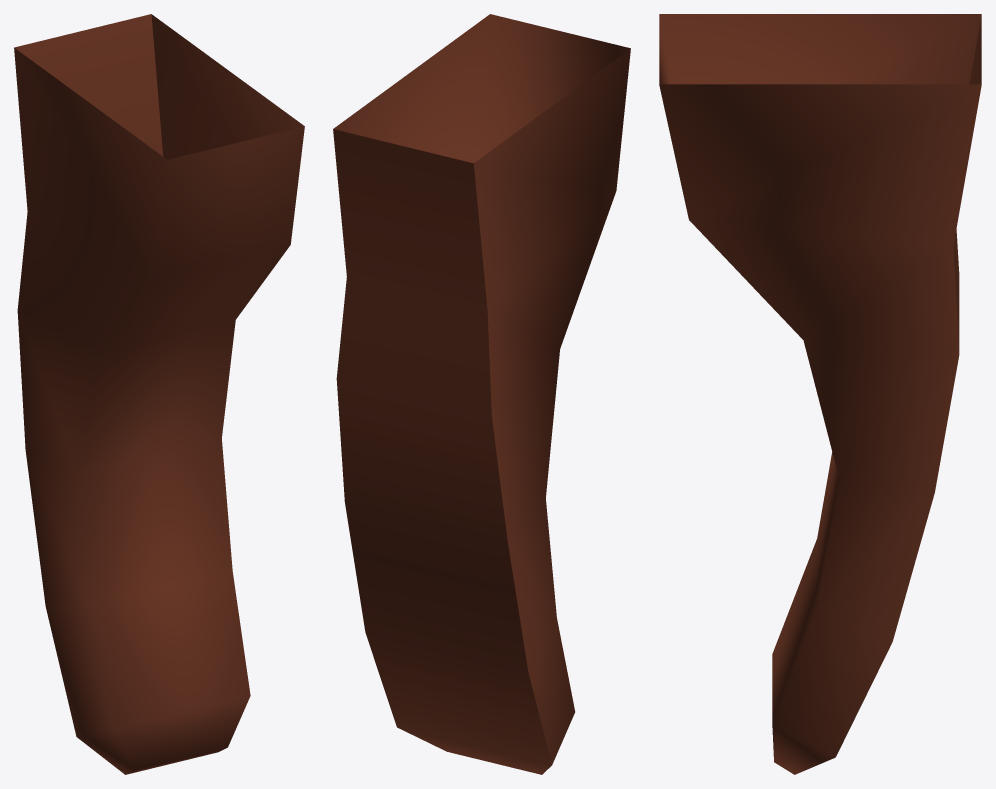
File: SniperTrigger.obj
3 views of the same model, side by side, from view 1: azimuth 30°, elevation 25°; view 2: azimuth 150°, elevation 25°; view 3: azimuth 270°, elevation 25° (orthographic). The views are drawn at different scales.
Parts seen in each view (by area): view 1: Trigger; view 2: Trigger; view 3: Trigger.
Part boxes in pixels (x1=…): Trigger: x1=14, y1=14, x2=304, y2=774; Trigger: x1=333, y1=14, x2=630, y2=774; Trigger: x1=659, y1=14, x2=981, y2=774.
Bounding box in the file's own units: 0.00494 × 0.0198 × 0.00825.
